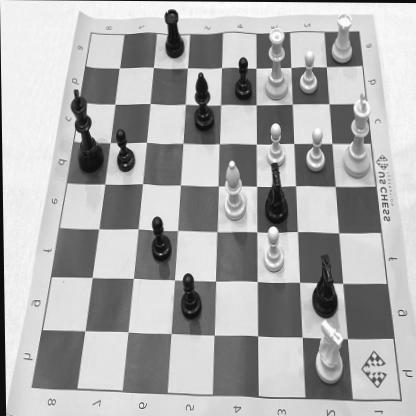black-bishop: (187, 66, 218, 136)
black-king: (67, 81, 106, 178)
black-knight: (308, 248, 341, 320), (259, 159, 292, 228)
black-pawn: (176, 265, 203, 323), (147, 212, 174, 267), (230, 51, 257, 105), (113, 124, 138, 176)
black-rook: (162, 5, 188, 65)
white-bishop: (220, 153, 250, 224)
white-king: (338, 89, 378, 180)
white-knight: (312, 315, 347, 384)
white-pawn: (259, 222, 290, 278), (301, 122, 328, 176), (294, 47, 320, 97), (262, 118, 286, 170)
white-queen: (260, 23, 290, 103)
white-rook: (328, 9, 358, 67)
